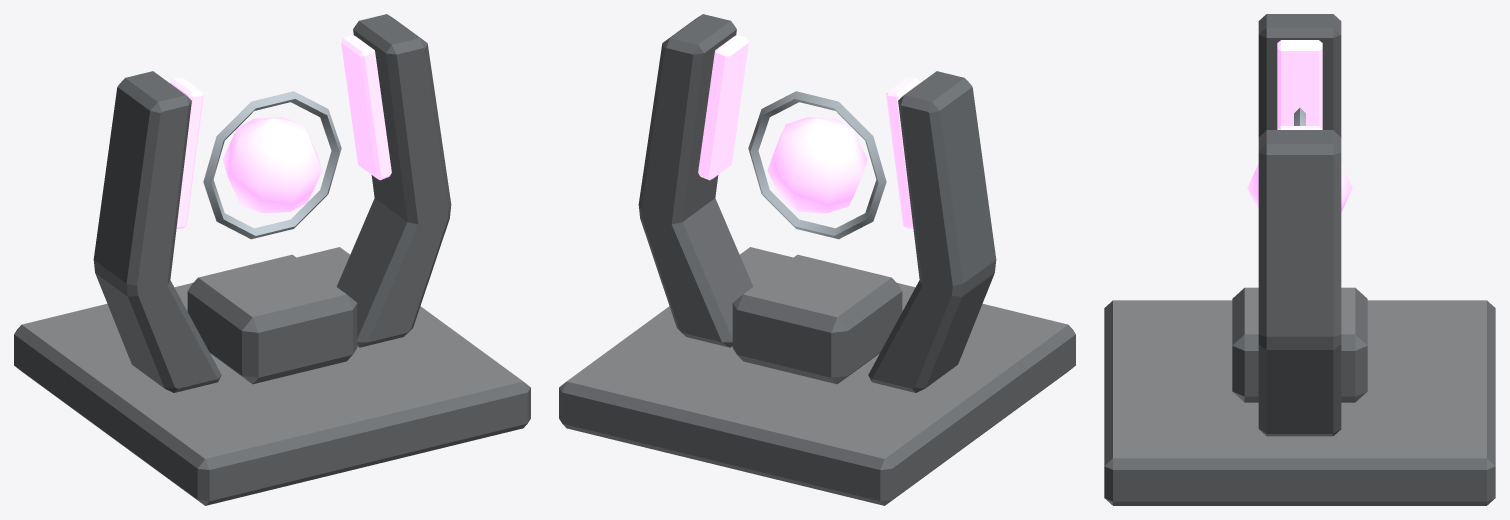
The model's file is R4X_Blink_LOD1.glb.
3 renders of one model, left to right at view 1: azimuth 30°, elevation 25°; view 2: azimuth 150°, elevation 25°; view 3: azimuth 270°, elevation 25°, orthographic.
Parts seen in each view (by area): view 1: R4X_Blink_LOD1; view 2: R4X_Blink_LOD1; view 3: R4X_Blink_LOD1.
Boxes of the visible parts, x1,y1,x2,y2 form: R4X_Blink_LOD1: (14,14,530,505); R4X_Blink_LOD1: (559,14,1075,505); R4X_Blink_LOD1: (1104,14,1495,505).
Bounding box in the file's own units: 0.52 × 0.51 × 0.52.
